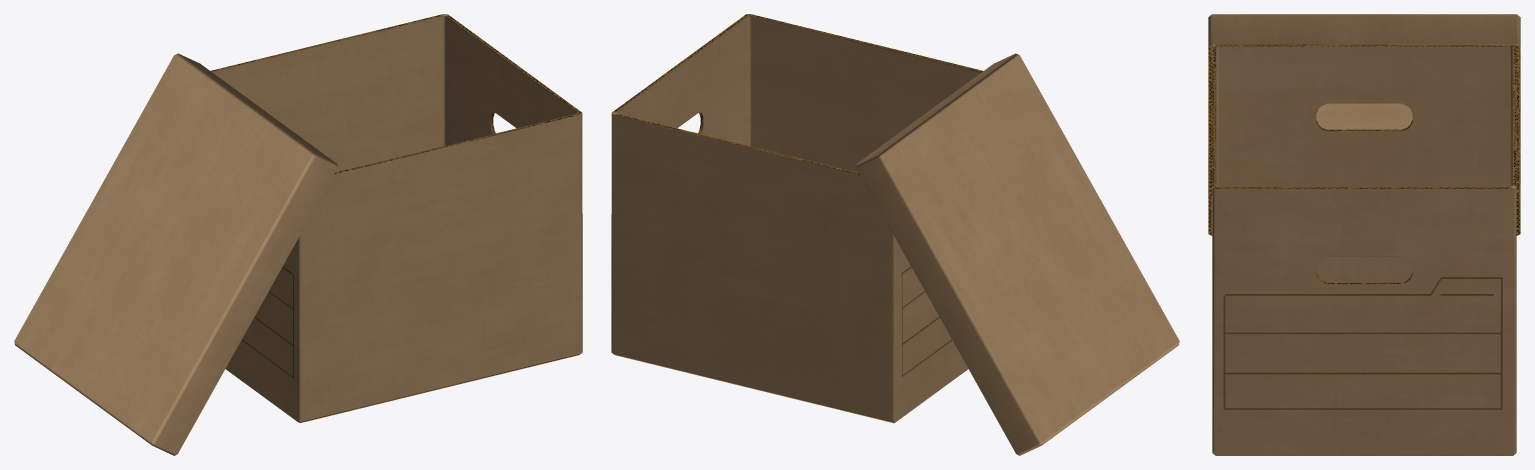
Rendered from SM_FilingBox_03.FBX.
3 views of the same model, side by side, from view 1: azimuth 30°, elevation 25°; view 2: azimuth 150°, elevation 25°; view 3: azimuth 270°, elevation 25° (orthographic). The views are drawn at different scales.
Visible parts, largest first — view 1: FilingBox_03; view 2: FilingBox_03; view 3: FilingBox_03.
Boxes of the visible parts, bbox=[...] form: FilingBox_03: bbox=[14, 14, 582, 455]; FilingBox_03: bbox=[611, 14, 1179, 455]; FilingBox_03: bbox=[1208, 14, 1520, 455].
Size of the model in its own units: 45.55 by 26.96 by 25.66.
